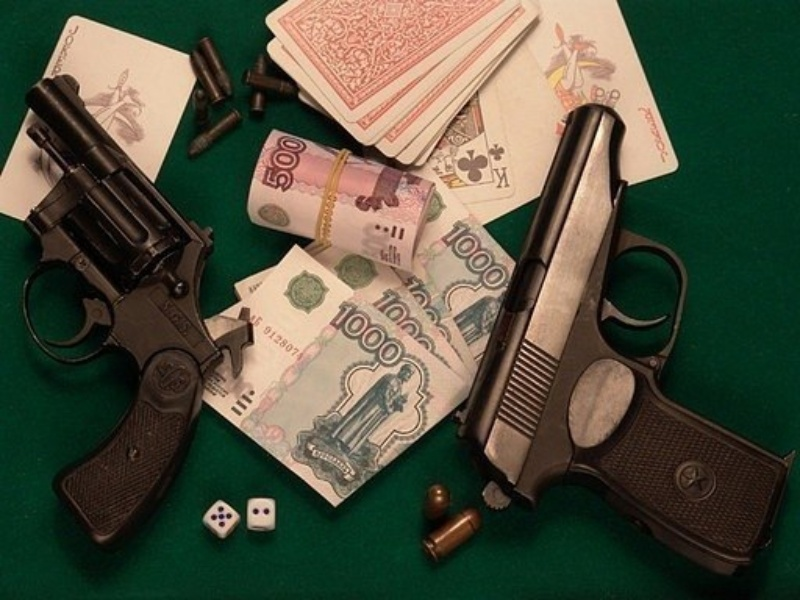cash: (202, 165, 516, 505), (245, 130, 438, 268)
weapon: (455, 103, 796, 582), (19, 74, 254, 568)
